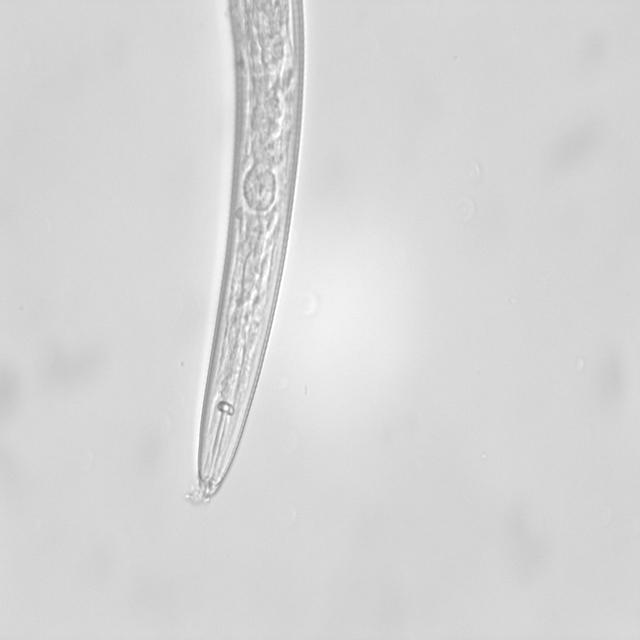Helicotylenchus: (184, 0, 326, 509)
